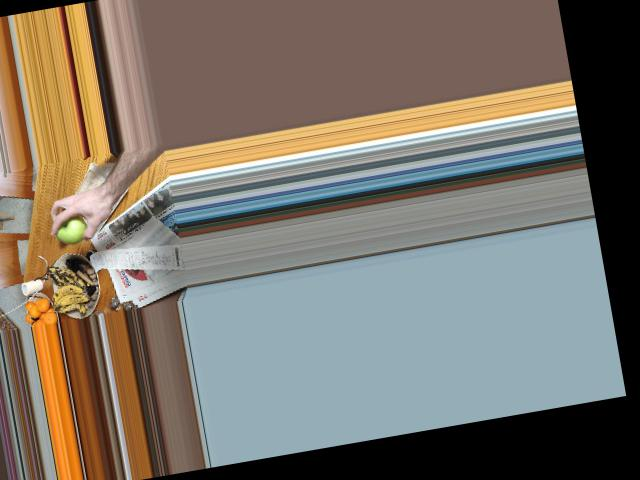apple: (48, 210, 93, 246)
